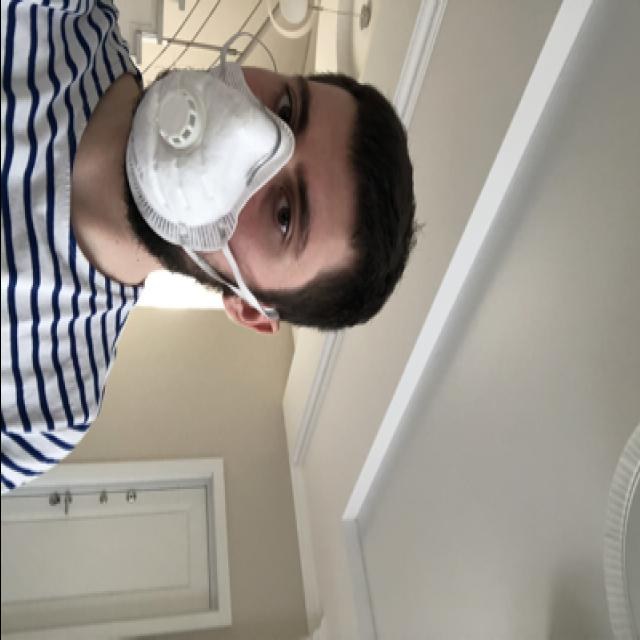mask: (123, 59, 325, 285)
